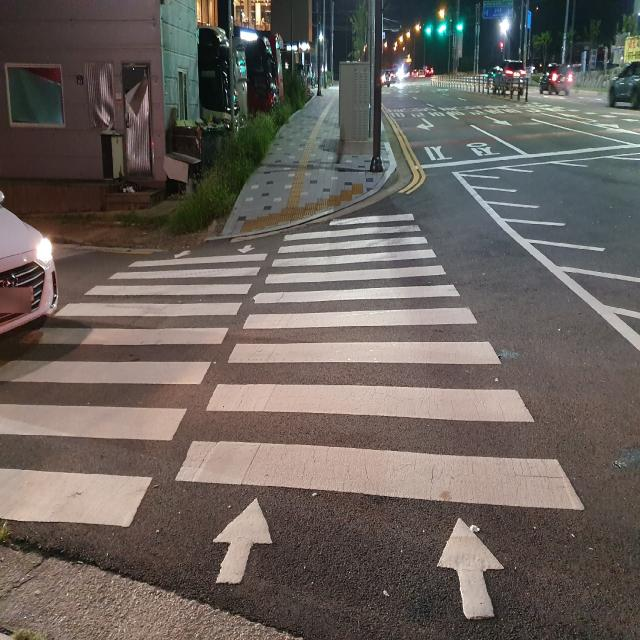횡단보도: (0, 213, 585, 621)
